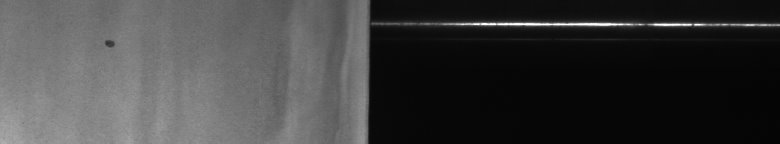fi: (102, 32, 120, 56)
